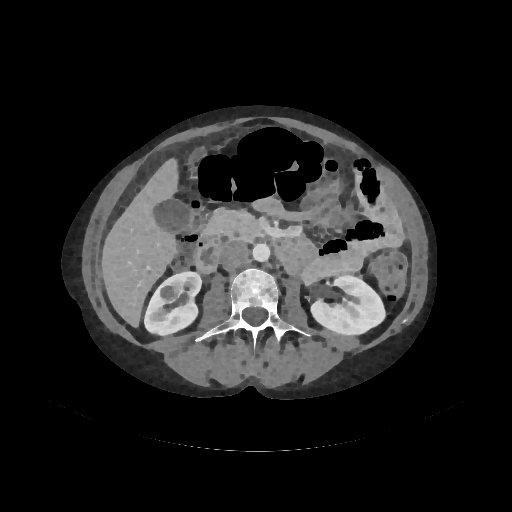Lesion: (157, 283, 180, 304)
